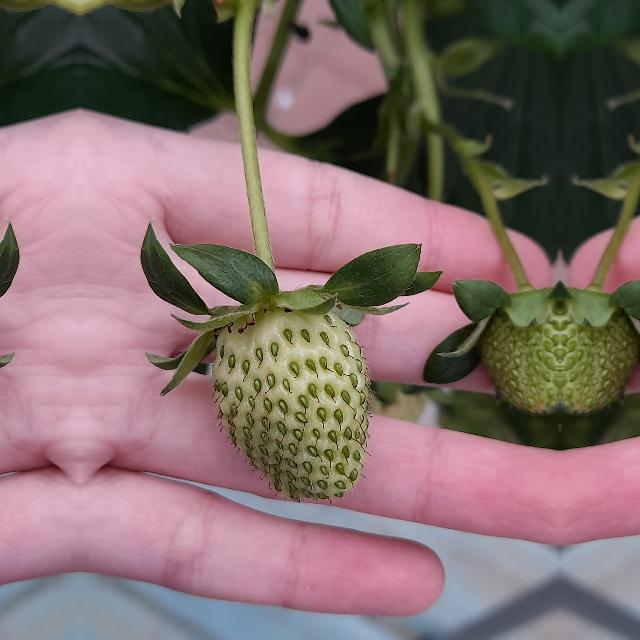Health_25: (212, 307, 368, 499), (477, 289, 559, 415), (561, 289, 640, 415)
